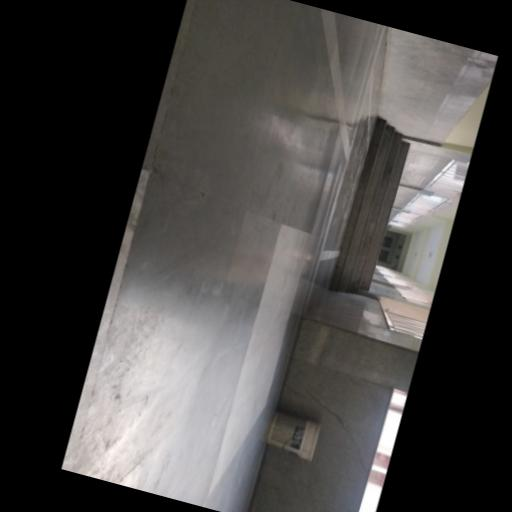stairs: (329, 119, 408, 293)
